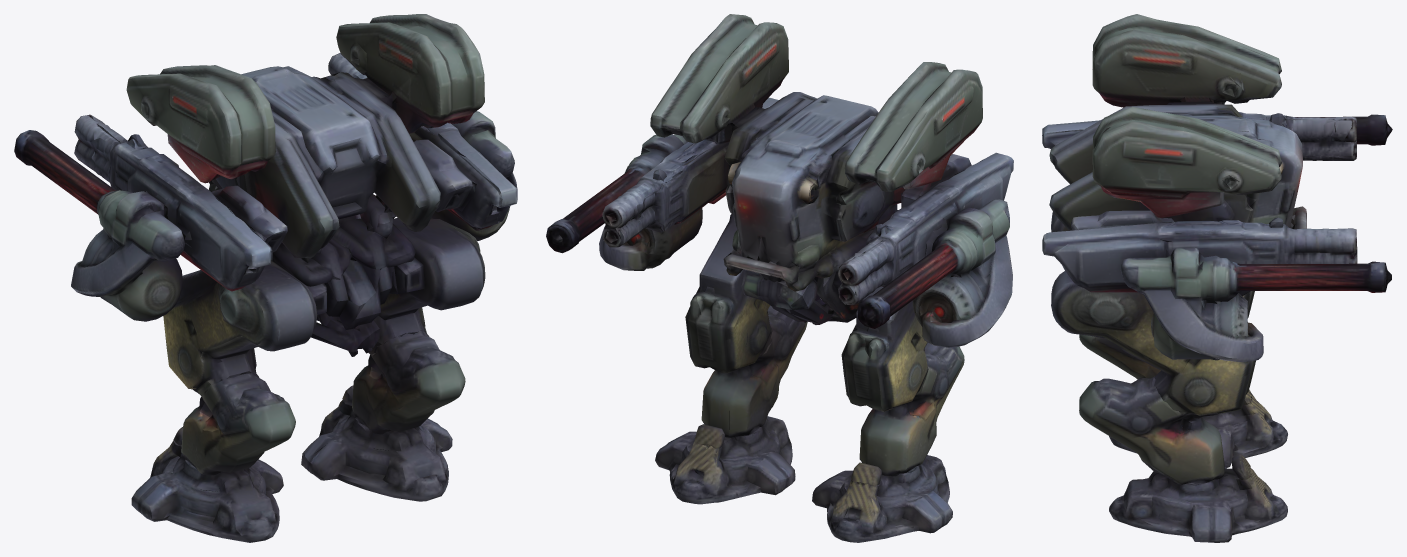
File: hero_m2.glb
The picture shows the model from 3 angles, left to right: view 1: azimuth 30°, elevation 25°; view 2: azimuth 150°, elevation 25°; view 3: azimuth 270°, elevation 25°; orthographic projection. The views are drawn at different scales.
Parts seen in each view (by area): view 1: hull, weapon_l, thigh_l, foot_r, foot_l, shin_l, shin_r, thigh_r, pelvis, weapon_r; view 2: hull, weapon_l, weapon_r, foot_l, foot_r, thigh_r, thigh_l, shin_l, shin_r, pelvis; view 3: hull, weapon_r, thigh_r, shin_r, foot_r, foot_l, weapon_l, shin_l.
Part boxes in pixels (x1,y1,x2,y2): hull: (91,14,499,286); weapon_l: (14,114,270,321); thigh_l: (163,260,317,396); foot_r: (301,400,452,501); foot_l: (131,440,283,542); shin_l: (173,349,357,475); shin_r: (342,330,465,434); thigh_r: (316,209,485,353); pelvis: (307,257,424,352); weapon_r: (328,53,517,240); hull: (619,14,984,291); weapon_l: (838,152,1013,347); weapon_r: (546,97,778,270); foot_l: (812,455,952,542); foot_r: (655,416,795,504); thigh_r: (685,192,806,373); thigh_l: (812,286,928,411); shin_l: (851,342,964,485); shin_r: (694,305,807,448); pelvis: (741,269,862,324); hull: (1044,14,1353,233); weapon_r: (1042,220,1391,361); thigh_r: (1051,271,1255,416); shin_r: (1079,376,1251,484); foot_r: (1109,467,1287,542); foot_l: (1109,392,1287,467); weapon_l: (1042,112,1392,160); shin_l: (1079,334,1251,404).
Bounding box in the file's own units: 4.14 × 4.32 × 3.34.
1 material, 1 textured.
